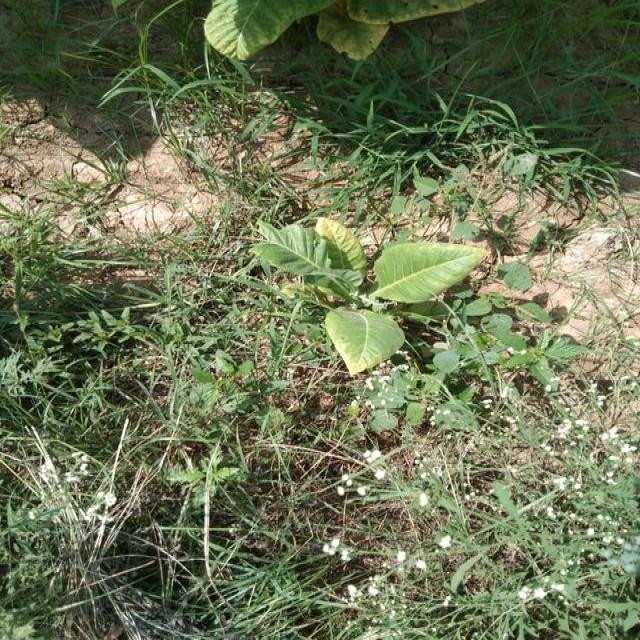crop: (256, 218, 491, 372)
